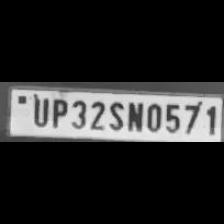0: (144, 102, 162, 132)
1: (200, 102, 218, 136)
2: (87, 98, 105, 130)
3: (68, 97, 86, 129)
5: (162, 100, 180, 134)
7: (182, 100, 200, 134)
N: (126, 100, 144, 132)
P: (48, 96, 68, 128)
S: (106, 99, 124, 131)
U: (28, 96, 48, 127)
